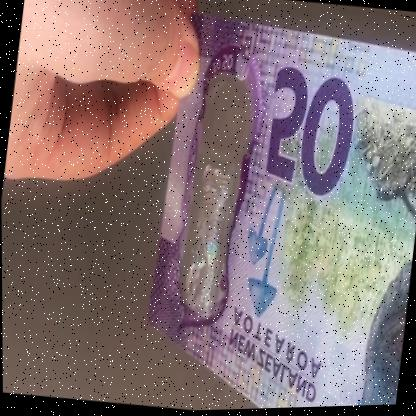50B: (177, 96, 249, 312)
